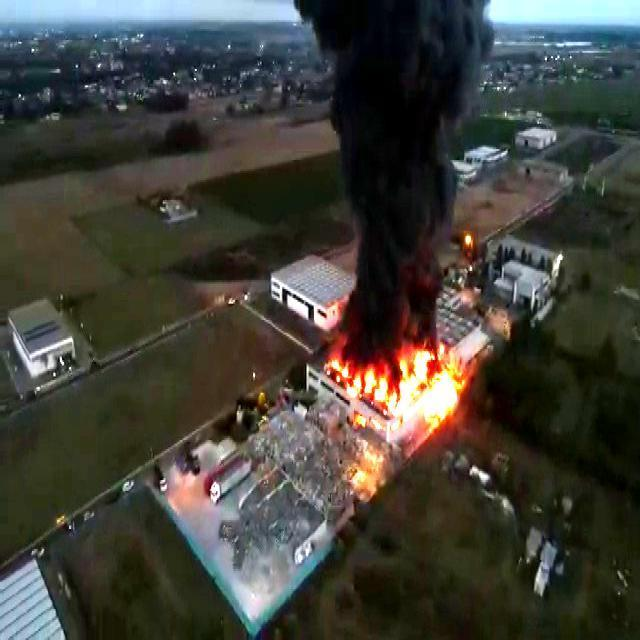Fire: (378, 344, 463, 418), (331, 351, 374, 403)
Smoke: (320, 0, 490, 317)
